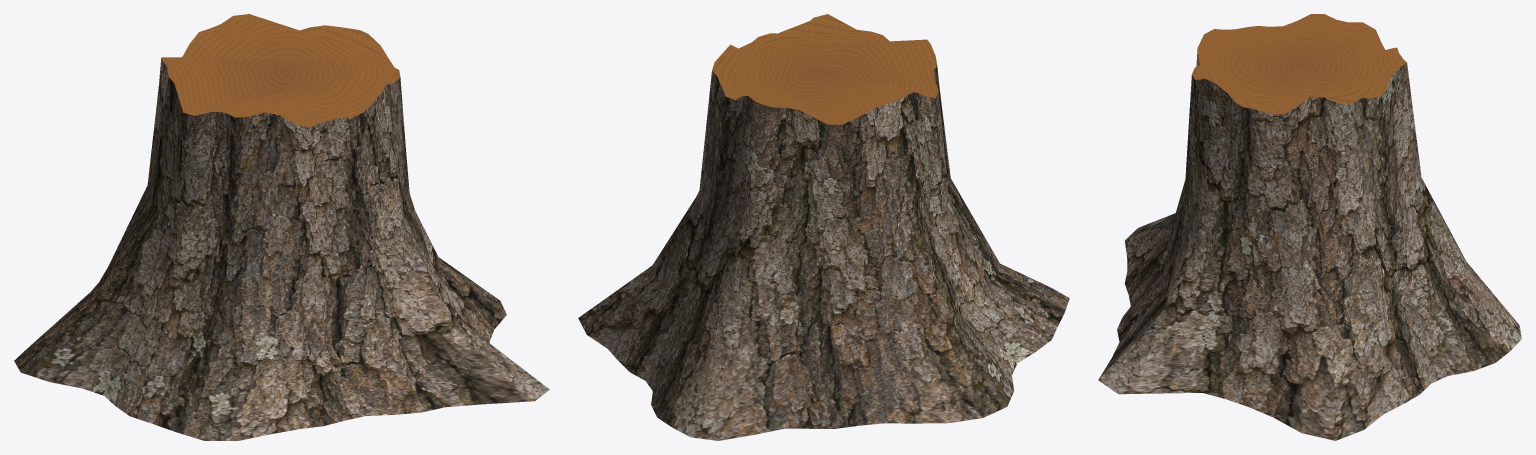
The model's file is SM_HarvestOak_Stump.fbx.
3 renders of one model, left to right at view 1: azimuth 30°, elevation 25°; view 2: azimuth 150°, elevation 25°; view 3: azimuth 270°, elevation 25°, orthographic. The views are drawn at different scales.
Visible parts, largest first — view 1: SM_HarvestOak_Stump; view 2: SM_HarvestOak_Stump; view 3: SM_HarvestOak_Stump.
Part boxes in pixels (box(x1,y1,x2,y2)): SM_HarvestOak_Stump: box(14, 14, 549, 440); SM_HarvestOak_Stump: box(578, 14, 1069, 440); SM_HarvestOak_Stump: box(1098, 14, 1521, 440).
Bounding box in the file's own units: 1.47 × 1.3 × 0.9473.
Materials: 2 (2 with a texture image).
